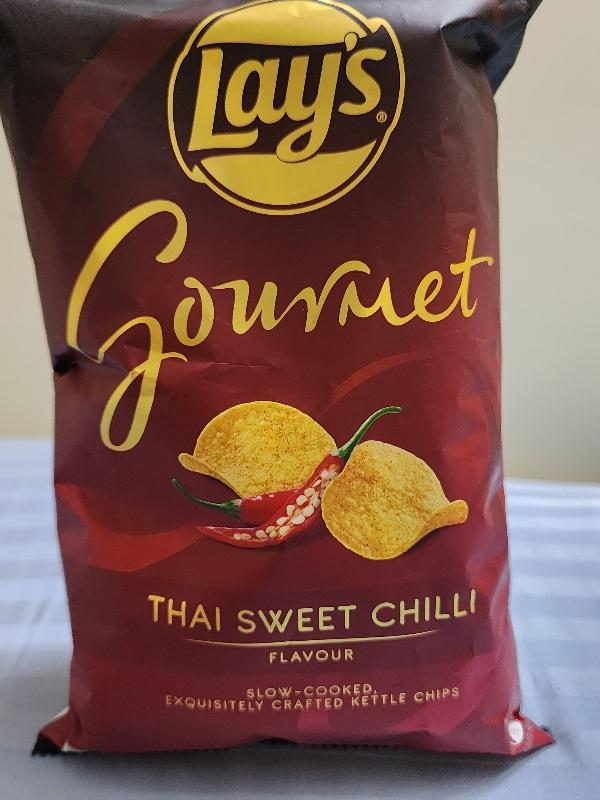Lays: (3, 0, 551, 757)
